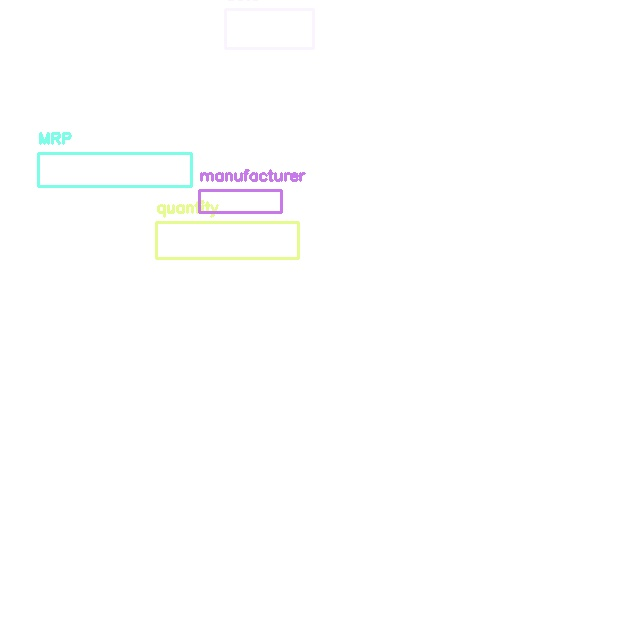MRP: (38, 153, 191, 186)
date: (225, 9, 313, 48)
manufacturer: (199, 190, 281, 212)
quantity: (156, 222, 298, 258)
